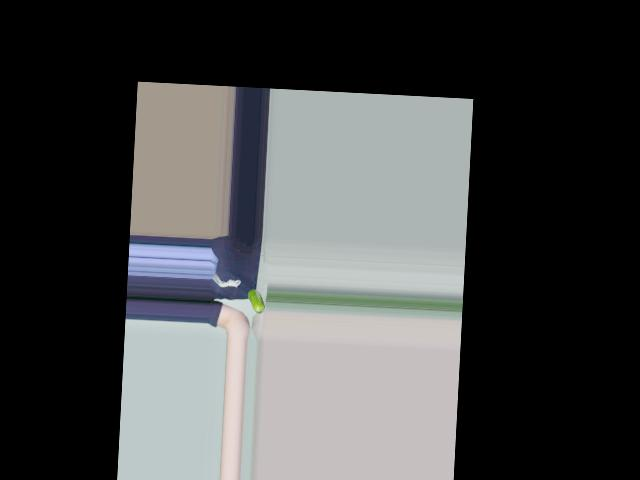cucumber: (247, 289, 266, 314)
